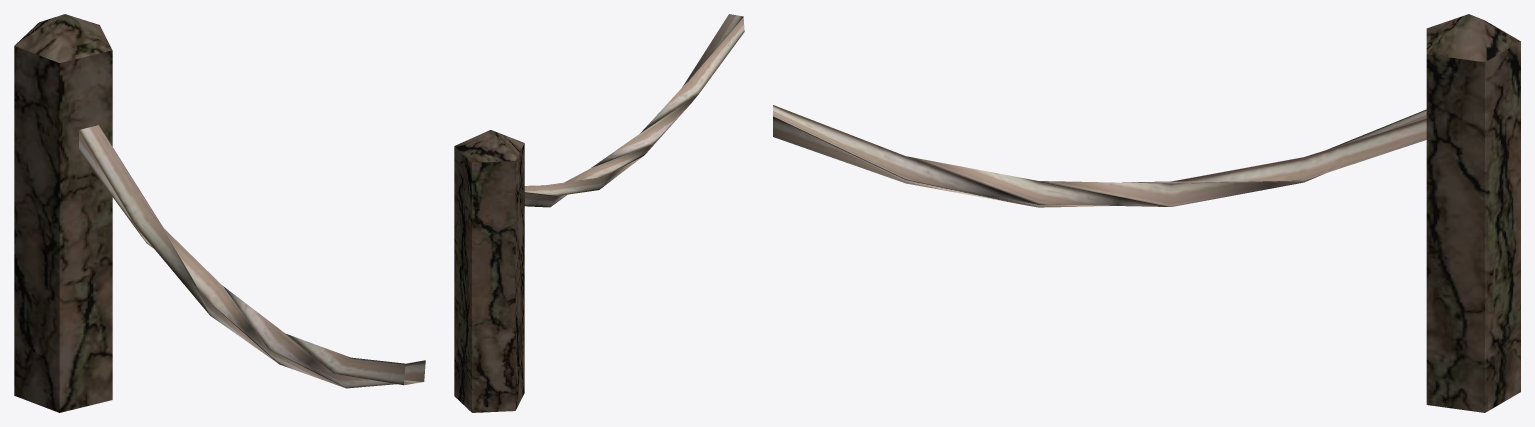
Rendered from pm-love-death-fence.glb.
3 views of the same model, side by side, from view 1: azimuth 30°, elevation 25°; view 2: azimuth 150°, elevation 25°; view 3: azimuth 270°, elevation 25° (orthographic). The views are drawn at different scales.
Parts seen in each view (by area): view 1: LoveDeath_Fence_Art; view 2: LoveDeath_Fence_Art; view 3: LoveDeath_Fence_Art.
Boxes of the visible parts, x1,y1,x2,y2 form: LoveDeath_Fence_Art: (14,14,425,412); LoveDeath_Fence_Art: (454,14,744,412); LoveDeath_Fence_Art: (773,14,1520,412).
Bounding box in the file's own units: 0.2651 × 1.12 × 2.
Materials: 2 (2 with a texture image).
